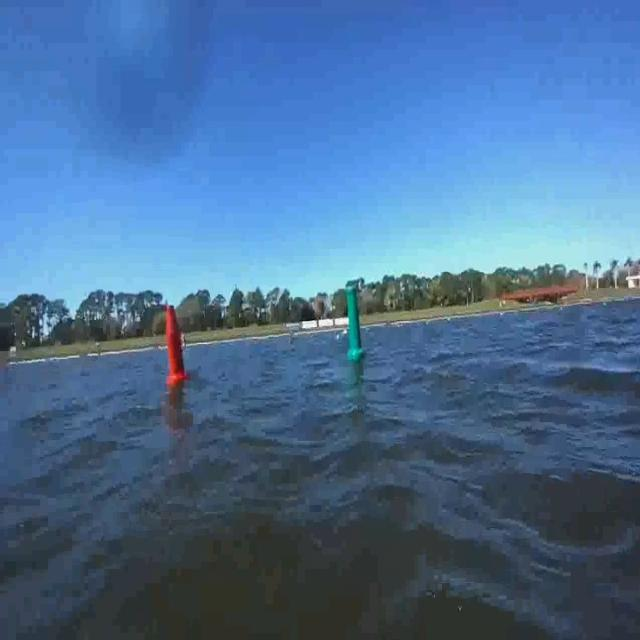green-column-buoy: (345, 285, 366, 360)
red-column-buoy: (164, 305, 189, 386)
